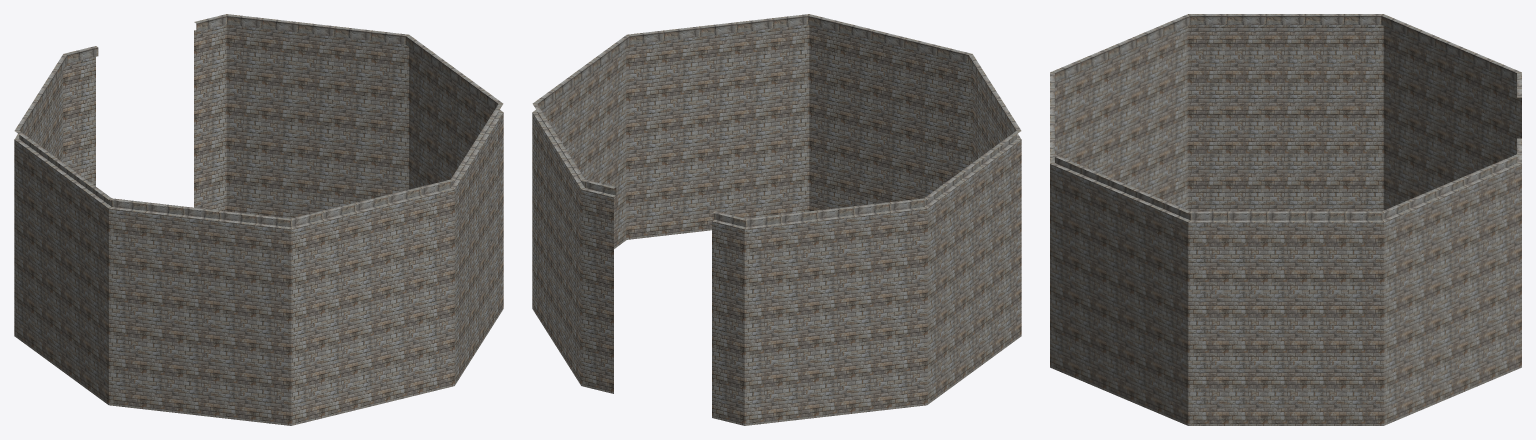
Rendered from CircularWallsEnd.fbx.
3 views of the same model, side by side, from view 1: azimuth 30°, elevation 25°; view 2: azimuth 150°, elevation 25°; view 3: azimuth 270°, elevation 25° (orthographic). The views are drawn at different scales.
Parts seen in each view (by area): view 1: CircularWallsEnd; view 2: CircularWallsEnd; view 3: CircularWallsEnd.
Boxes of the visible parts, x1,y1,x2,y2 form: CircularWallsEnd: (14,14,503,425); CircularWallsEnd: (532,14,1021,425); CircularWallsEnd: (1050,14,1521,425).
Bounding box in the file's own units: 1811 × 900 × 1811.
